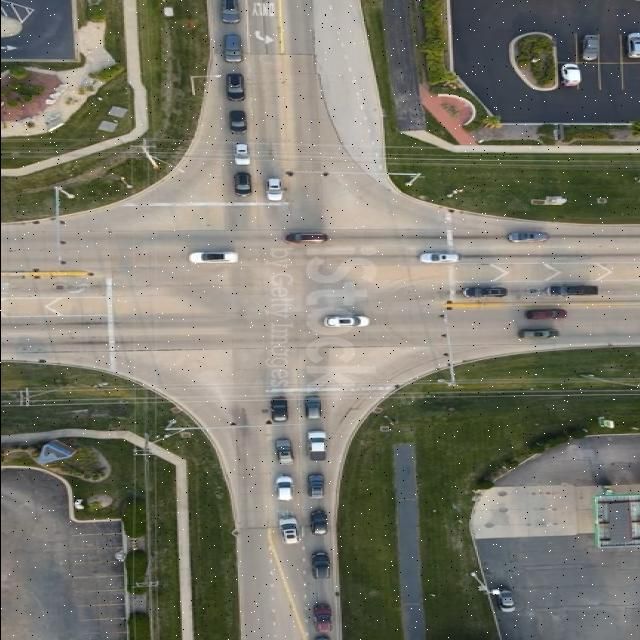car: (544, 284, 596, 296), (188, 252, 238, 264), (220, 34, 240, 62), (220, 68, 240, 96), (492, 588, 514, 612), (322, 316, 366, 328), (308, 552, 328, 578), (276, 518, 296, 544), (224, 76, 244, 102), (216, 0, 237, 24), (287, 236, 329, 248), (267, 398, 287, 422), (285, 233, 327, 244), (460, 288, 505, 298), (560, 64, 580, 86), (274, 477, 292, 501), (273, 440, 291, 464), (305, 475, 323, 499), (308, 512, 326, 536), (504, 232, 546, 242), (521, 310, 563, 320), (302, 396, 320, 419), (226, 112, 243, 136), (264, 178, 282, 200), (233, 172, 251, 194), (419, 253, 458, 263), (625, 33, 640, 58), (517, 328, 553, 338)
pickup-truck: (580, 34, 600, 62)
